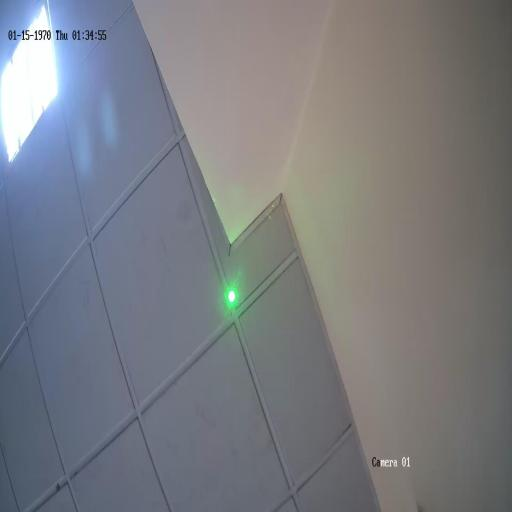laser: (220, 274, 241, 314)
